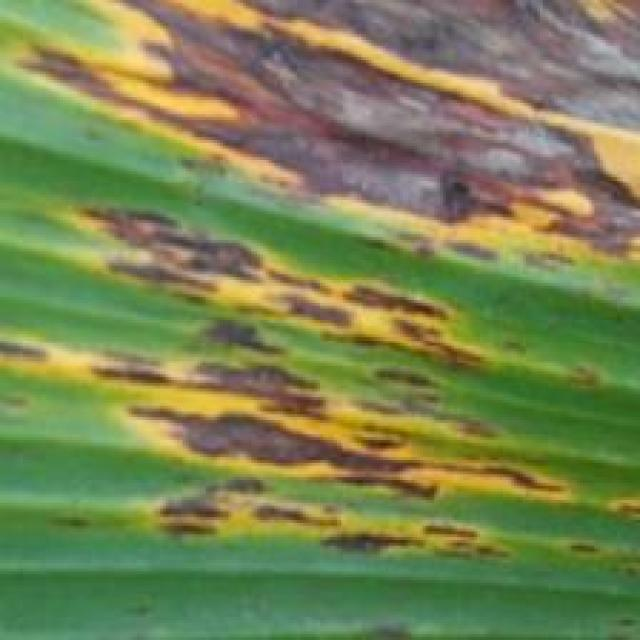Early_leaf_spot: (0, 190, 640, 610), (0, 0, 640, 260)
